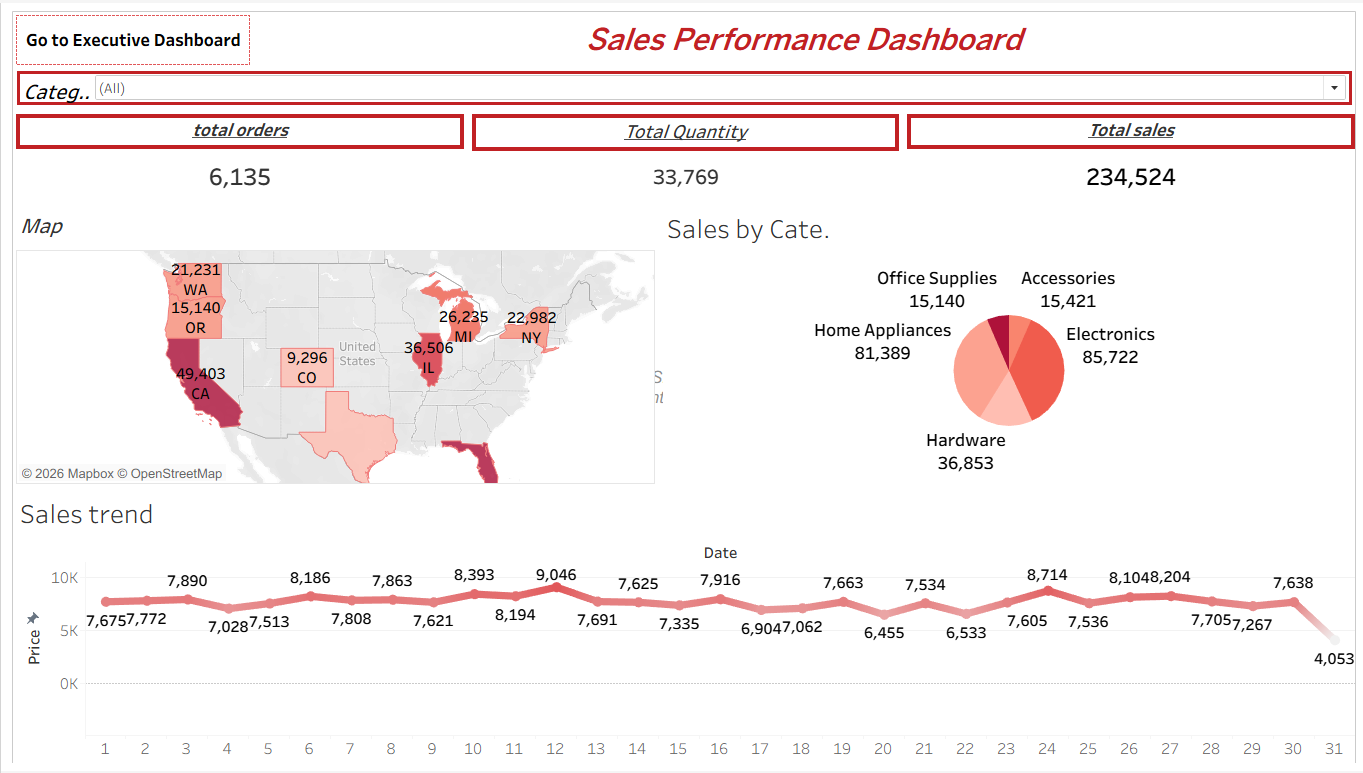

The dashboard page shown, as its layout file describes it:
{"tool":"tableau","page":{"name":"Dash1","canvas":[1366,768],"ordinal":0},"visuals":[{"type":"dashboard-object","box":[10.9,7.7,242,58]},{"type":"text","box":[252.9,7.7,1104.9,58]},{"type":"filter","title":"Sales by Cate.","param":"[federated.1di5oxr1eslyg61clz0ck091g77u].[none:Category:nk]","box":[16,68,1335,34]},{"type":"worksheet","title":"total orders","mark":"Automatic","box":[10.9,106.7,455.9,93]},{"type":"worksheet","title":"Total Qty","mark":"Automatic","box":[466.9,106.7,435,93]},{"type":"worksheet","title":"Total sales","mark":"Automatic","box":[901.9,106.7,455.9,93]},{"type":"worksheet","title":"Map","mark":"Multipolygon","box":[10.9,199.7,646.9,285]},{"type":"worksheet","title":"Sales by Cate.","mark":"Pie","box":[657.8,199.7,700,285]},{"type":"worksheet","title":"Sales trend","mark":"Automatic","rows":["Price"],"cols":["Date"],"box":[10.9,484.7,1346.9,275.6]}]}

Visuals, with their boxes in screenshot pixels (x1, y1, x2, y2), scaled from the page's 1366x768 canvas onto the 1363x773 screenshot:
dashboard-object: [11, 8, 252, 66]
text: [252, 8, 1355, 66]
"Sales by Cate." filter: [16, 68, 1348, 103]
"total orders" worksheet: [11, 107, 466, 201]
"Total Qty" worksheet: [466, 107, 900, 201]
"Total sales" worksheet: [900, 107, 1355, 201]
"Map" worksheet (Multipolygon marks): [11, 201, 656, 488]
"Sales by Cate." worksheet (Pie marks): [656, 201, 1355, 488]
"Sales trend" worksheet: [11, 488, 1355, 765]
